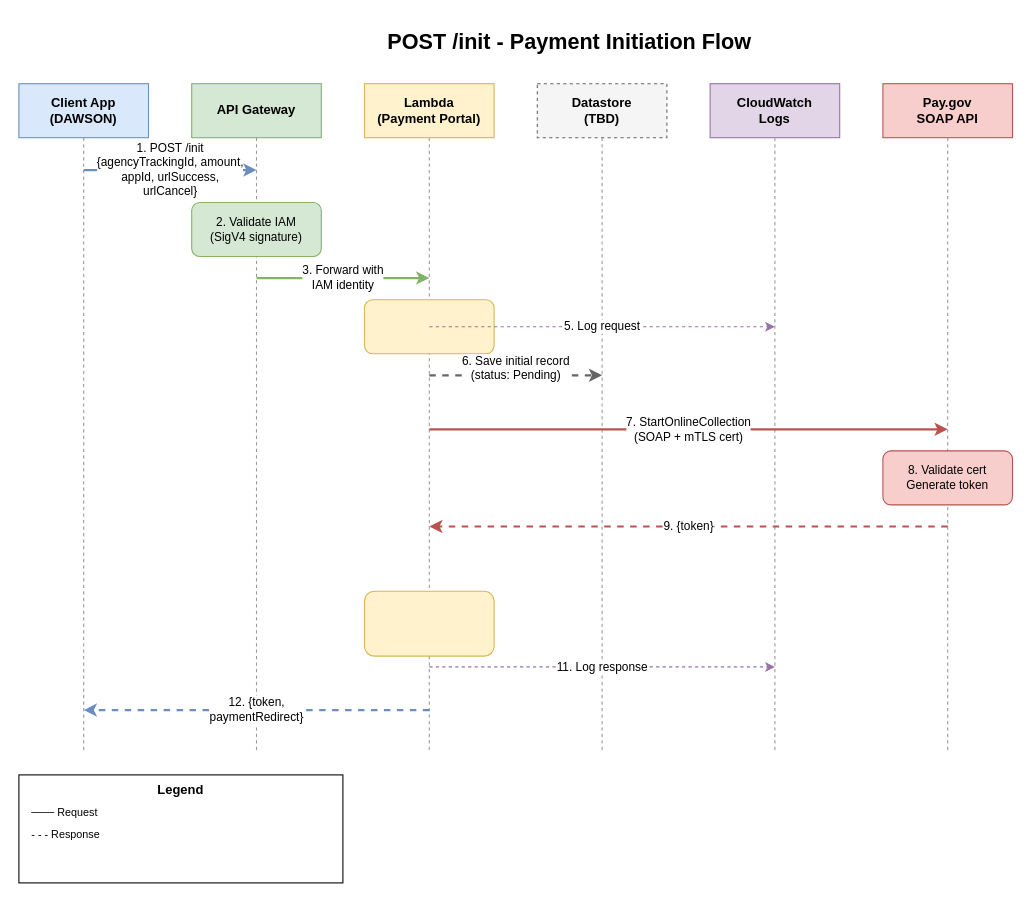
Image size: 1031x902. Some labels were removed from this diagram. The shapes that lost their labels are listed below. From the top down, each one's centre as x and y in pixels, then its label:
point (428, 326): 4. Validate request (Joi schema)
point (428, 623): 10. Build response paymentRedirect = PAYMENT_URL?token=...
